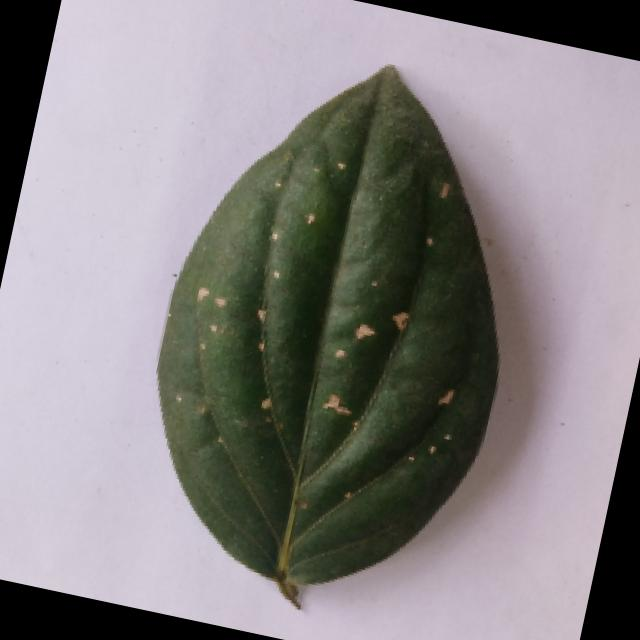pollu-disease: (112, 34, 562, 636)
